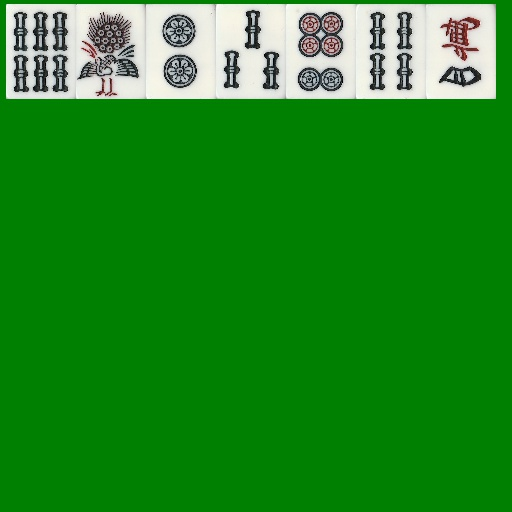1s: (76, 4, 146, 99)
2p: (146, 4, 216, 99)
3s: (216, 4, 286, 99)
4m: (426, 4, 496, 99)
4s: (356, 4, 426, 99)
6p: (286, 4, 356, 99)
6s: (6, 4, 76, 99)
